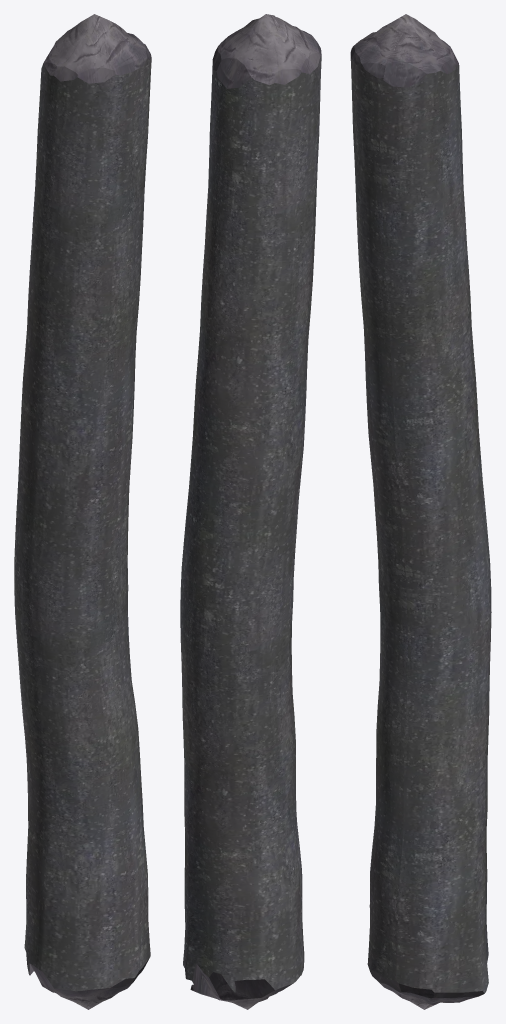
3 renders of one model, left to right at view 1: azimuth 90°, elevation 25°; view 2: azimuth 150°, elevation 25°; view 3: azimuth 330°, elevation 25°, orthographic.
Parts seen in each view (by area): view 1: SM_FH_Ash_Tree_01_half_bottom_LOD0; view 2: SM_FH_Ash_Tree_01_half_bottom_LOD0; view 3: SM_FH_Ash_Tree_01_half_bottom_LOD0.
Part boxes in pixels (left/top/right/bottom): SM_FH_Ash_Tree_01_half_bottom_LOD0: left=14, top=14, right=151, bottom=1009; SM_FH_Ash_Tree_01_half_bottom_LOD0: left=180, top=14, right=321, bottom=1009; SM_FH_Ash_Tree_01_half_bottom_LOD0: left=350, top=14, right=491, bottom=1009.
Size of the model in its own units: 0.6039 by 4.65 by 0.5767.
Materials: 1 (1 with a texture image).
